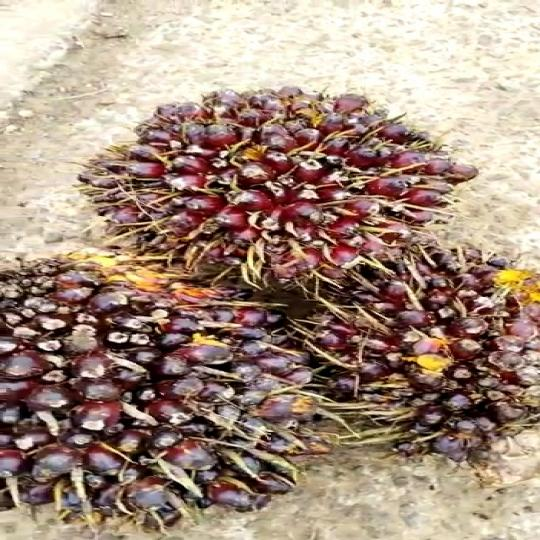kurang masak: (0, 228, 356, 539), (62, 73, 473, 269), (276, 227, 540, 466)
